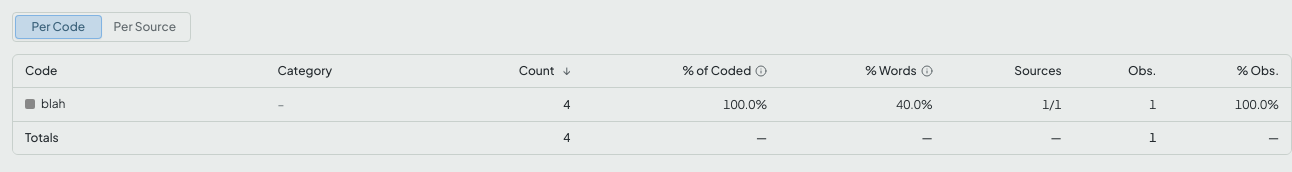
Scenario: the source-kind label is a total map, not a ternary chain › names observation in the Per Source table
The width and height of the screenshot is (1292, 172).
Click the tab "Per Source" at (145, 27), box [102,15,188,39]
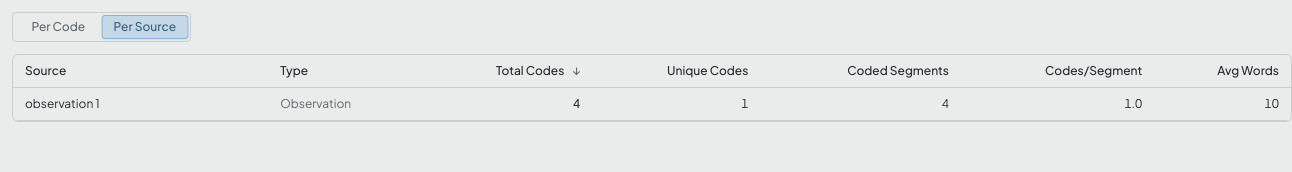
Expected: the cell "Observation" is shown, [268,88,420,120]
